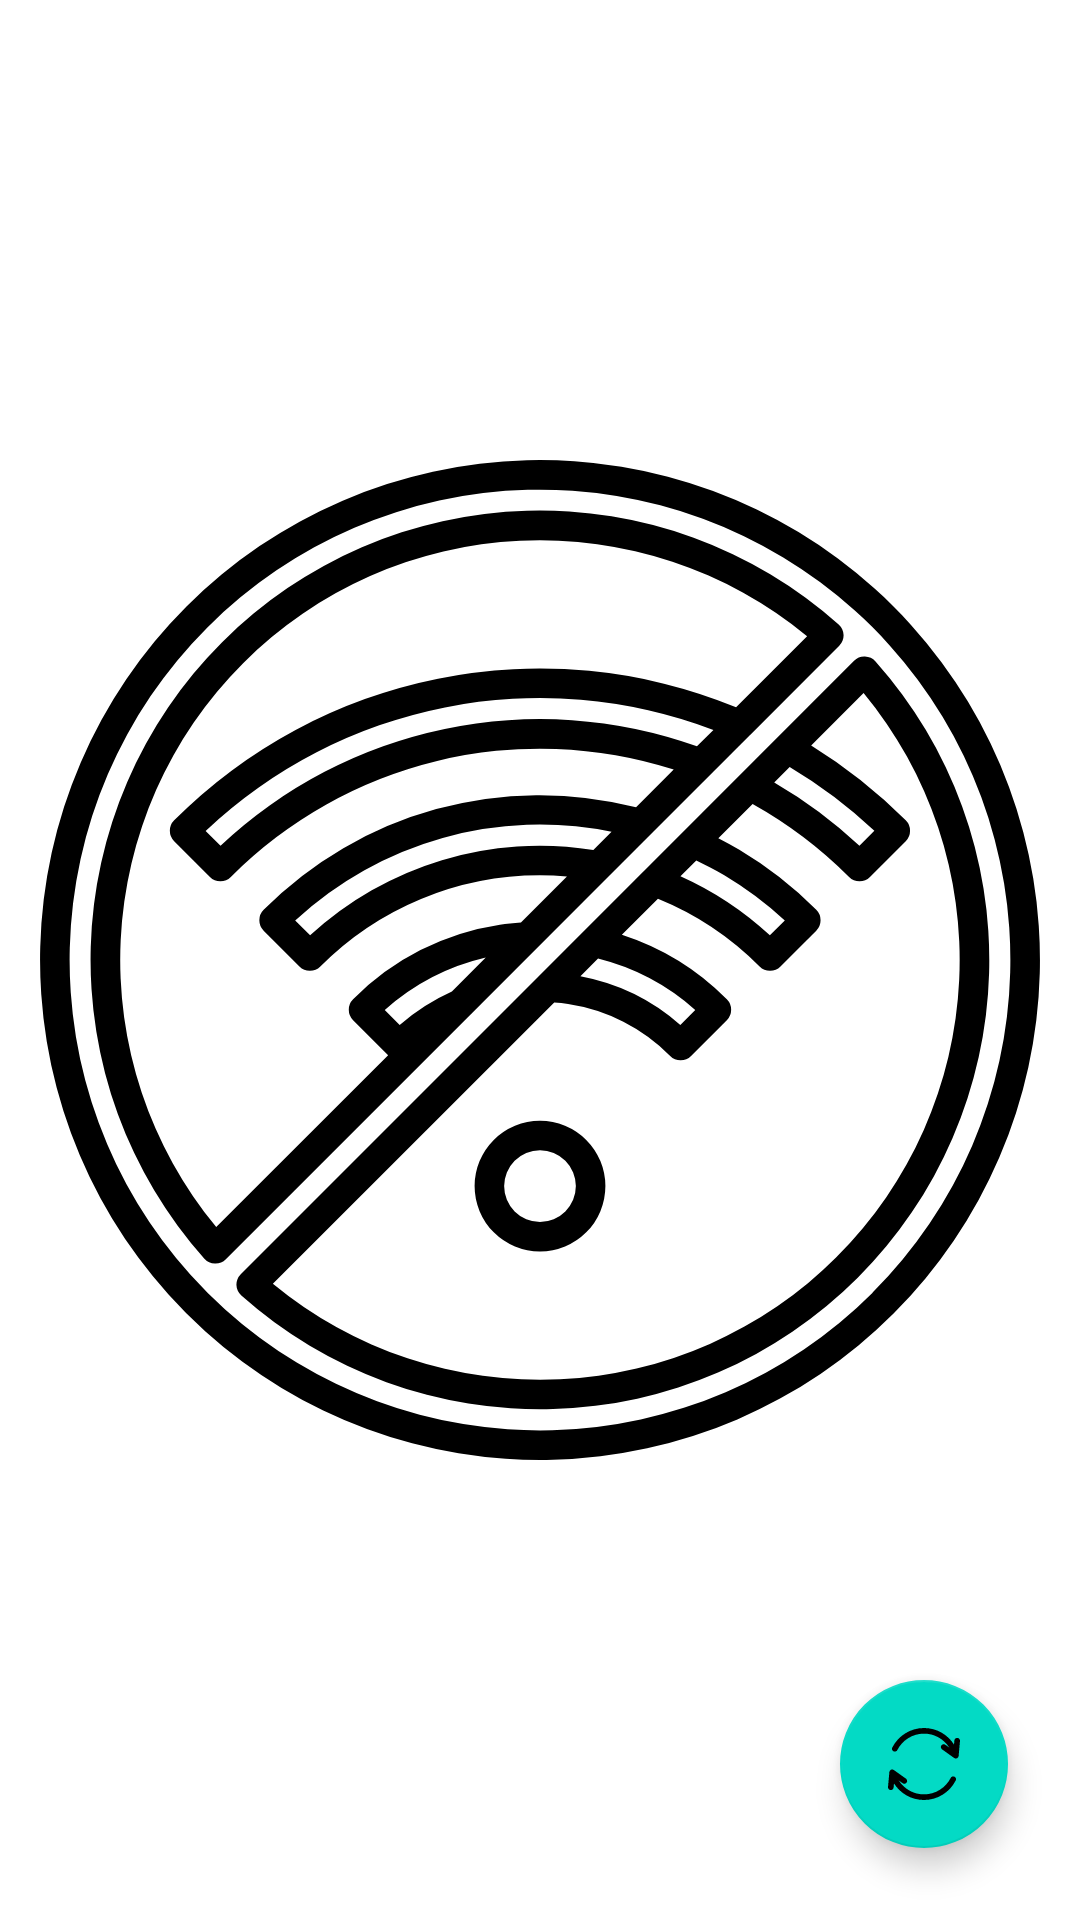

Icon click points for this 1080*1920 phone screenshot, format (x,y):
refresh: (924,1764)
